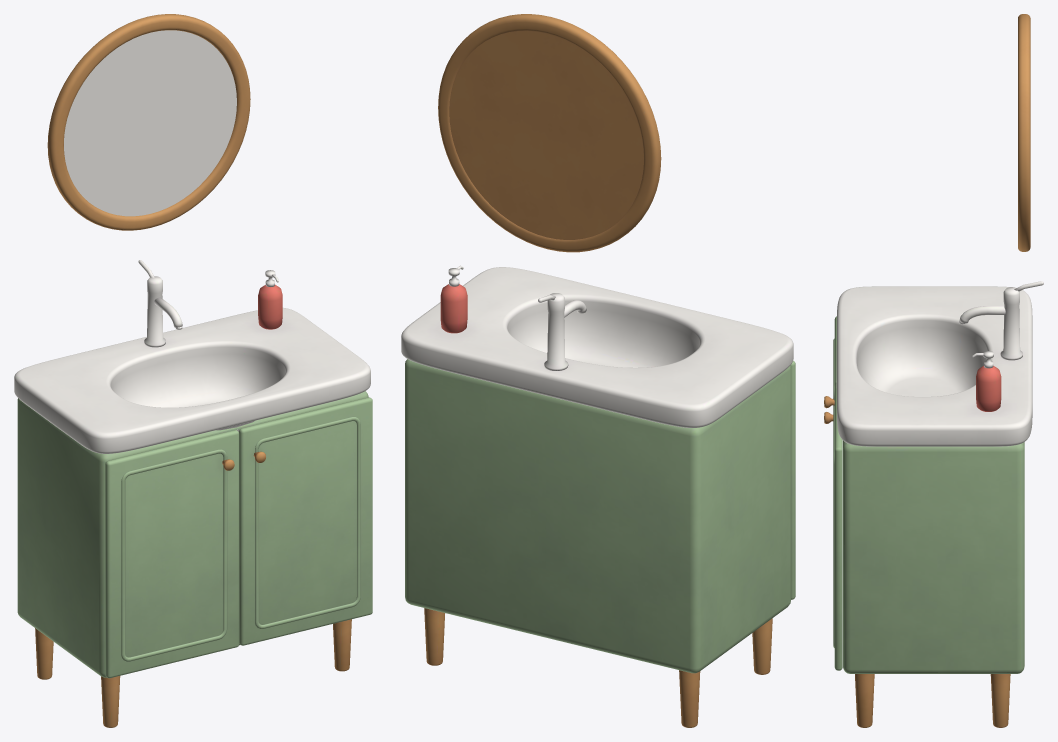
File: bathroom-sink.glb
3 views of the same model, side by side, from view 1: azimuth 30°, elevation 25°; view 2: azimuth 150°, elevation 25°; view 3: azimuth 270°, elevation 25° (orthographic). The views are drawn at different scales.
Parts seen in each view (by area): view 1: bathroom-sink_body, bathroom-sink_door_l, bathroom-sink_door_r, bathroom-sink_mirror_glass, bathroom-sink_mirror; view 2: bathroom-sink_body, bathroom-sink_mirror, bathroom-sink_door_l; view 3: bathroom-sink_body, bathroom-sink_mirror, bathroom-sink_door_r, bathroom-sink_door_l.
Boxes of the visible parts, <box> form: bathroom-sink_body: <box>14,260,370,727</box>; bathroom-sink_door_l: <box>105,430,239,678</box>; bathroom-sink_door_r: <box>239,397,372,645</box>; bathroom-sink_mirror_glass: <box>64,30,236,216</box>; bathroom-sink_mirror: <box>47,14,250,230</box>; bathroom-sink_body: <box>401,265,793,727</box>; bathroom-sink_mirror: <box>438,14,661,252</box>; bathroom-sink_door_l: <box>790,361,795,599</box>; bathroom-sink_body: <box>836,281,1043,727</box>; bathroom-sink_mirror: <box>1018,14,1030,251</box>; bathroom-sink_door_r: <box>824,384,842,670</box>; bathroom-sink_door_l: <box>824,316,836,408</box>.
Bounding box in the file's own units: 0.84 × 1.77 × 0.5504.
5 materials, 4 textured.
